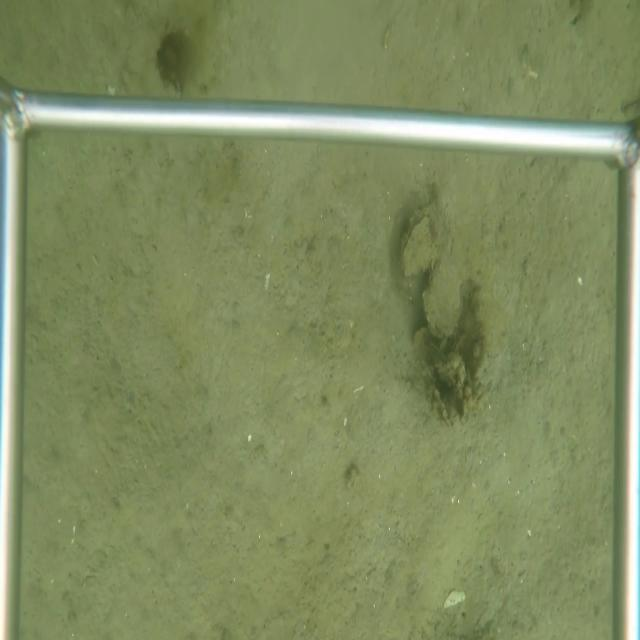Oyster-Closed: (399, 208, 441, 279)
Oyster-Indeterminate: (422, 251, 465, 339)
